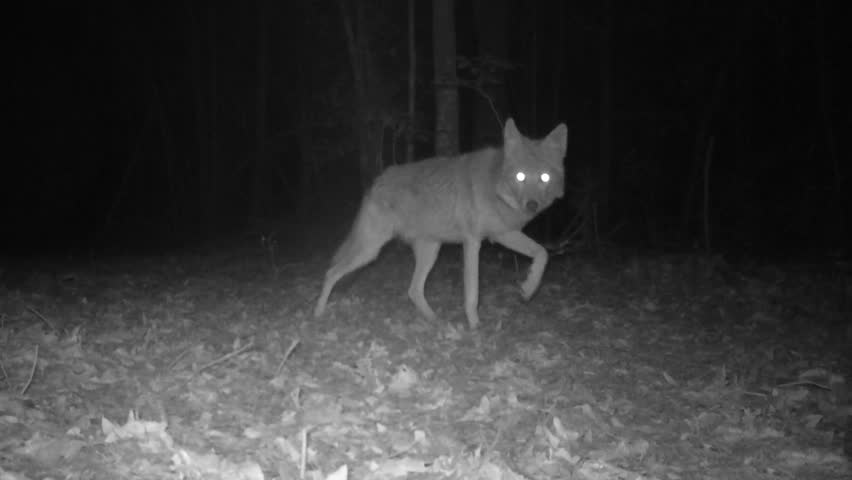coyote: (300, 108, 601, 353)
